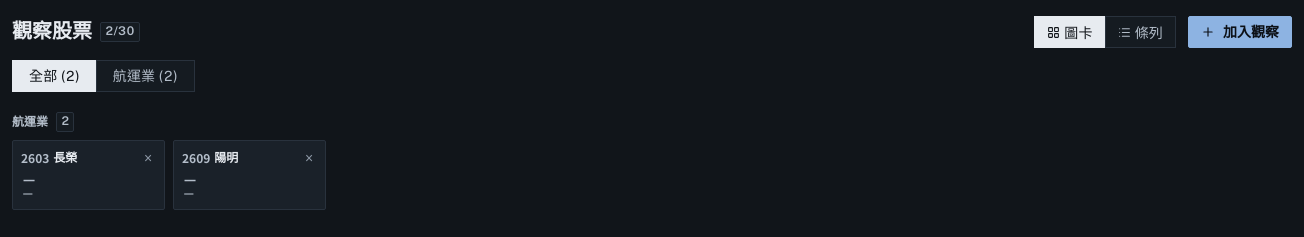
Test: WatchSection (Dashboard) › 產業自動分組與膠囊篩選 (Auto-Grouping & Filter Chips) › 刪除一檔使同產業標的數由 2 降為 1 時，群組自動解構
Expected: the text "長榮" is shown, [53,151,77,165]
Expected: the button with test id "filter-chip-航運業" is shown, [96,60,195,92]
Click the button named "移除 2609 陽明".
click(309, 158)  # box [301,150,317,166]
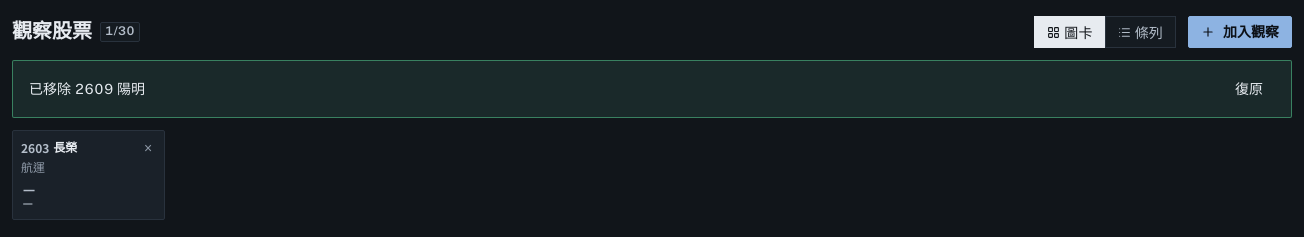
Expected: the button with test id "watch-card-2603" is shown, [12,130,165,220]
Expected: the button with test id "filter-chip-航運業" is gone
Expected: the button with test id "filter-chip-all" is gone
